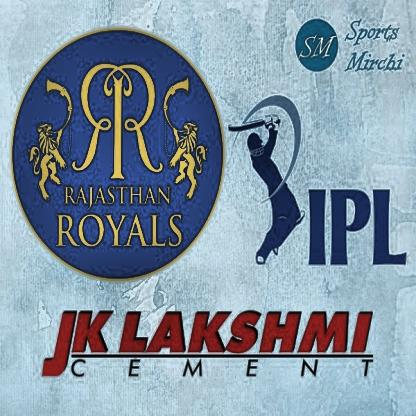IPL: (227, 93, 307, 269), (308, 186, 407, 265)
JK lakshmi cement: (40, 307, 375, 381)
Rajasthan Royals: (10, 25, 225, 280)
